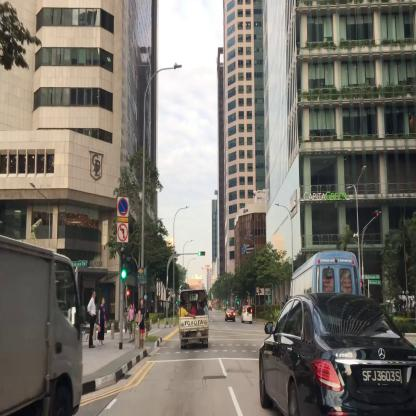green_traffic_light: (119, 249, 126, 280), (198, 250, 205, 256)
